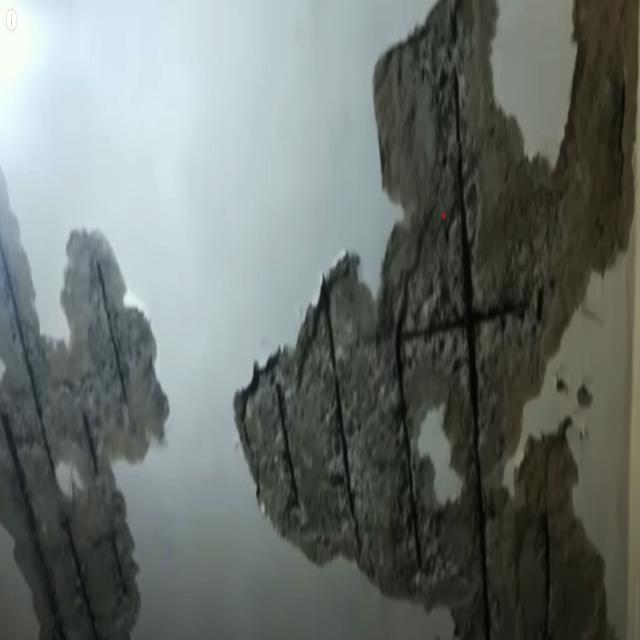Spalling: (230, 3, 638, 640), (0, 159, 174, 640)
